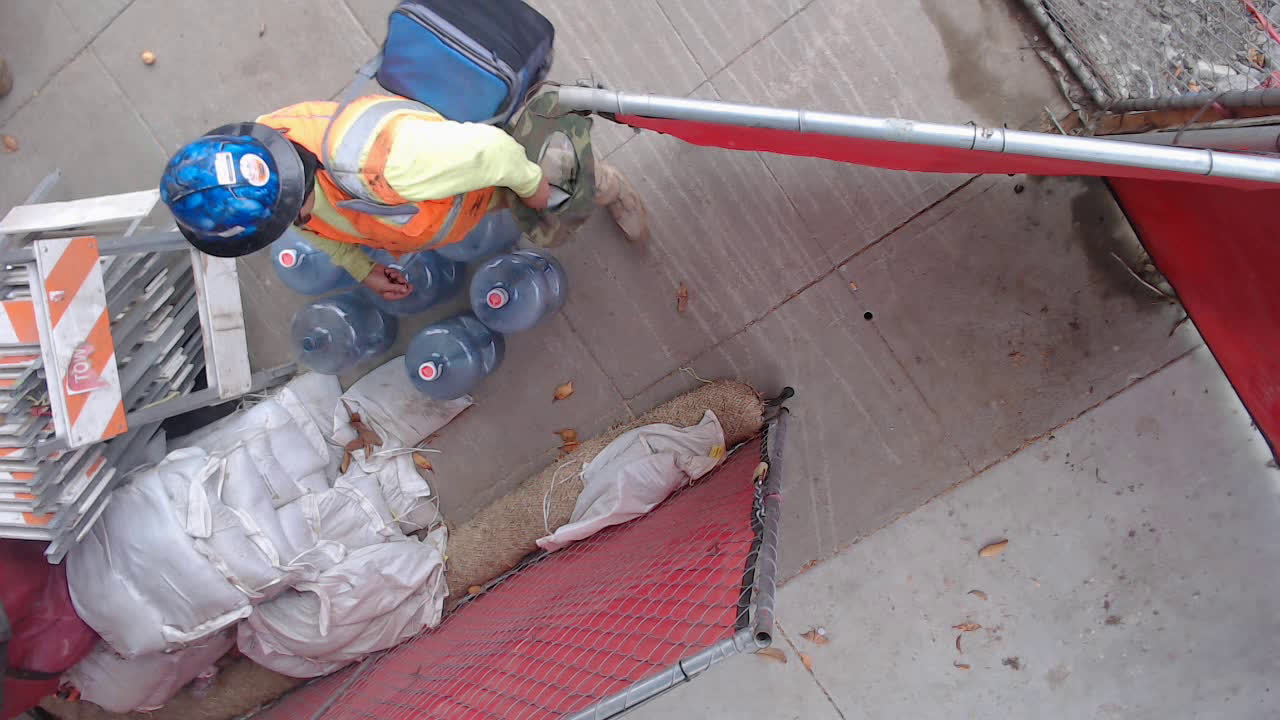hardhat: (160, 122, 304, 259)
safetyvest: (254, 94, 498, 252)
